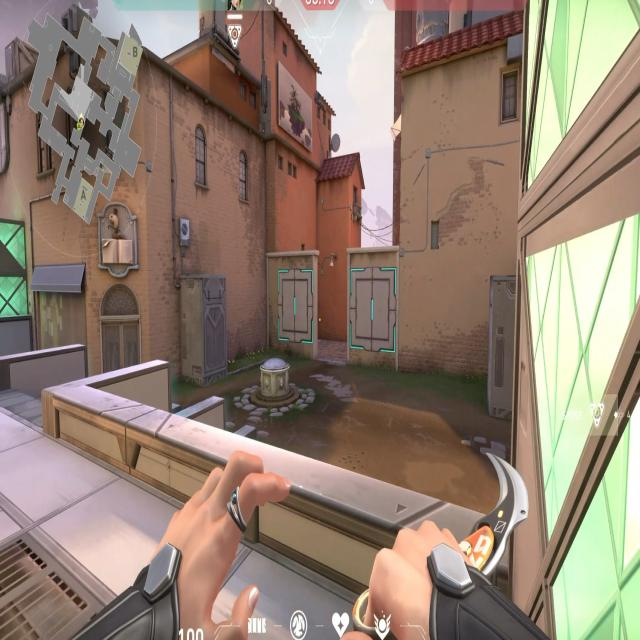Mid_Wall: (349, 262, 398, 362), (276, 266, 316, 354)
